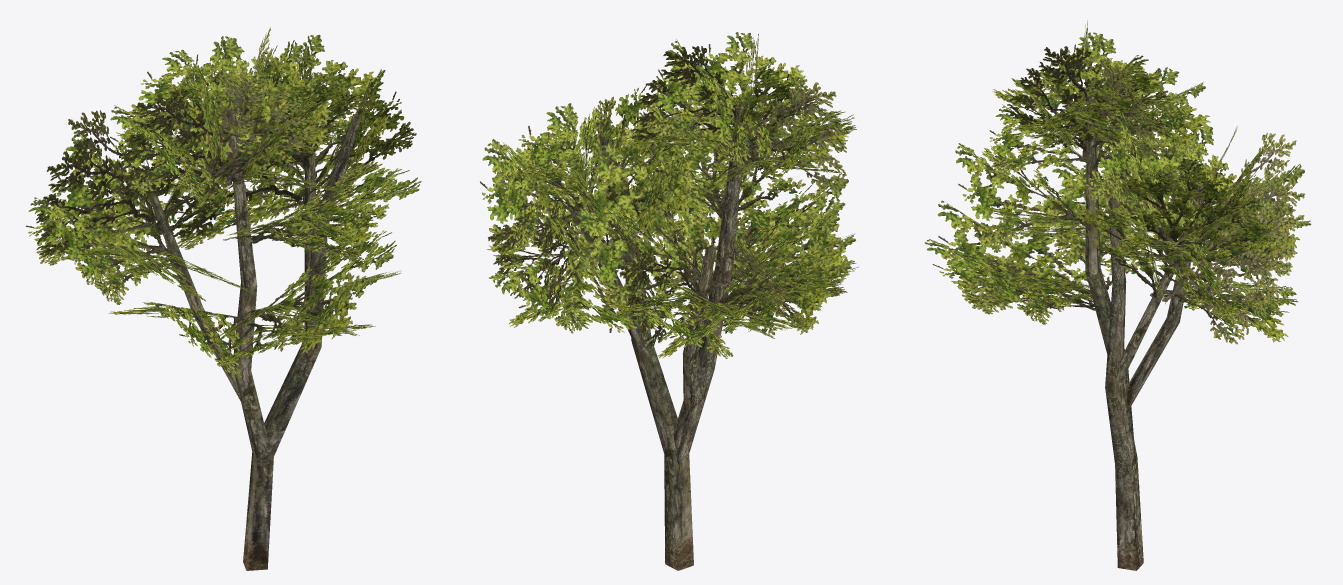
The model's file is OZ_00_wv_tree06A.glb.
The picture shows the model from 3 angles, left to right: view 1: azimuth 30°, elevation 25°; view 2: azimuth 150°, elevation 25°; view 3: azimuth 270°, elevation 25°; orthographic projection. The views are drawn at different scales.
Parts seen in each view (by area): view 1: OM_00_wv_tree06A; view 2: OM_00_wv_tree06A; view 3: OM_00_wv_tree06A.
Part boxes in pixels (x1,y1,x2,y2): OM_00_wv_tree06A: (25,27,421,570); OM_00_wv_tree06A: (480,32,858,570); OM_00_wv_tree06A: (924,20,1311,570).
Size of the model in its own units: 3.11 by 4.17 by 3.12.
2 materials, 2 textured.
